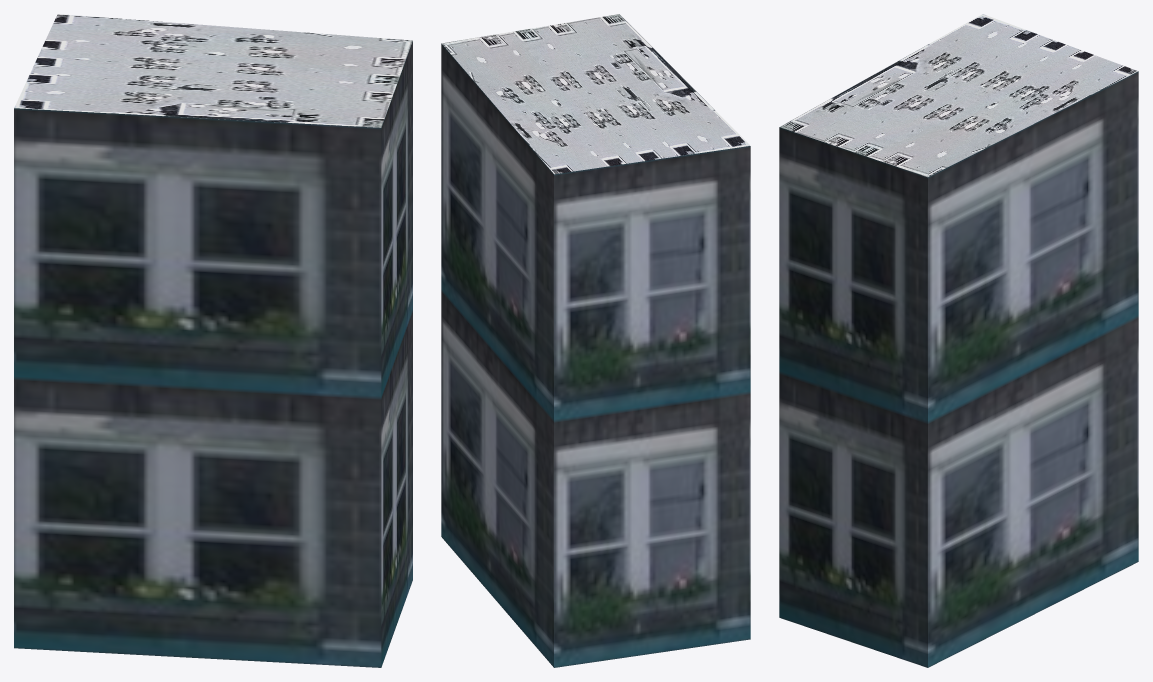
The model's file is ResTex__4975.fbx.
3 views of the same model, side by side, from view 1: azimuth 30°, elevation 25°; view 2: azimuth 150°, elevation 25°; view 3: azimuth 270°, elevation 25° (orthographic). The views are drawn at different scales.
Visible parts, largest first — view 1: CityEngineMaterial_11_m, CityEngineMaterial_m; view 2: CityEngineMaterial_11_m, CityEngineMaterial_m; view 3: CityEngineMaterial_11_m, CityEngineMaterial_m.
Boxes of the visible parts, box(x1,y1,x2,y2) form: CityEngineMaterial_11_m: box(14, 41, 412, 667); CityEngineMaterial_m: box(14, 14, 412, 127); CityEngineMaterial_11_m: box(441, 43, 750, 667); CityEngineMaterial_m: box(442, 14, 749, 174); CityEngineMaterial_11_m: box(779, 71, 1138, 667); CityEngineMaterial_m: box(780, 14, 1137, 177).
Size of the model in its own units: 4.28 by 6 by 3.98.
Materials: 2 (2 with a texture image).
